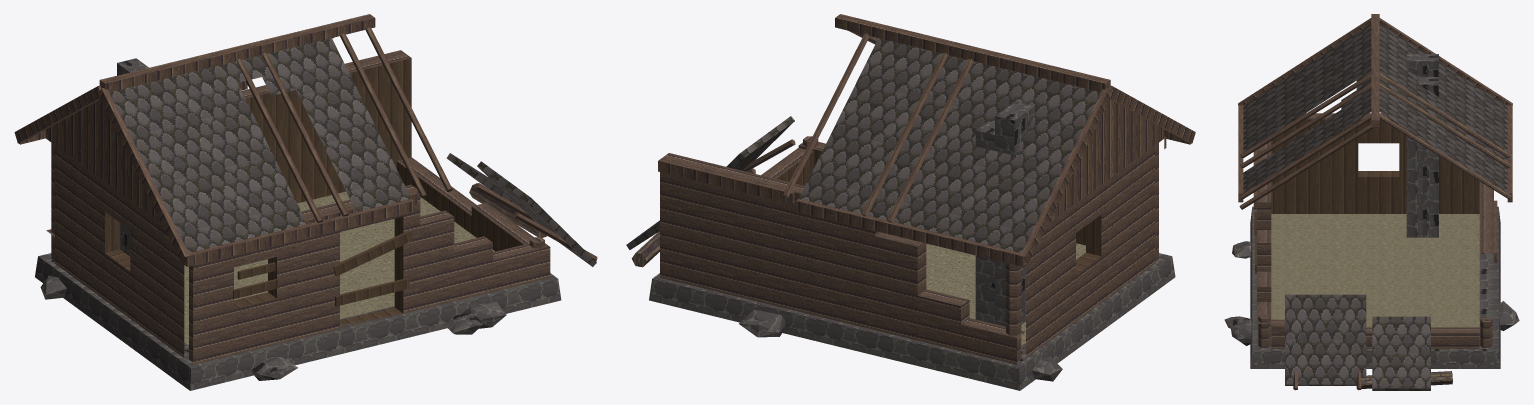
The model's file is tavern_stage0.glb.
The picture shows the model from 3 angles, left to right: view 1: azimuth 30°, elevation 25°; view 2: azimuth 150°, elevation 25°; view 3: azimuth 270°, elevation 25°; orthographic projection. The views are drawn at different scales.
Visible parts, largest first — view 1: tavern_stage0; view 2: tavern_stage0; view 3: tavern_stage0.
Part boxes in pixels (x1,y1,x2,y2): tavern_stage0: (14, 14, 597, 390); tavern_stage0: (626, 14, 1195, 390); tavern_stage0: (1224, 14, 1519, 390).
Size of the model in its own units: 8.88 by 4.88 by 6.23.
Materials: 7 (7 with a texture image).
